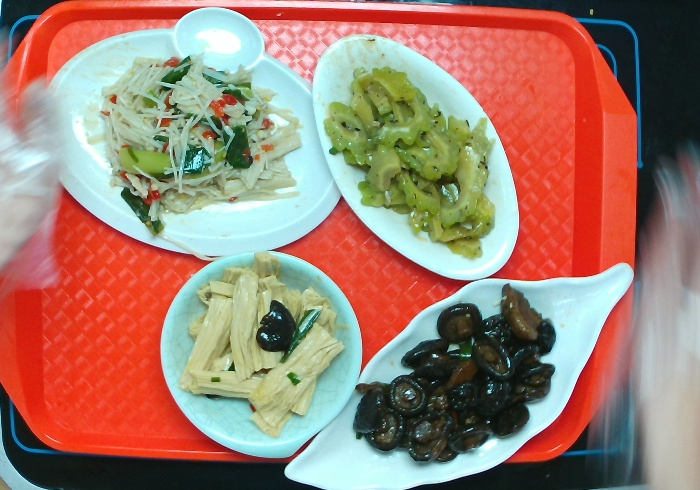RJxy-Bai_Se_Tuo_Yuan: (314, 27, 527, 279)
RJxy-Shu_Ye_Pan: (278, 243, 632, 490)
RJxy-Xiao_Jiao_Yuan_Wan: (160, 255, 361, 459)
RJxy-Zhan_Liao_Pan: (44, 6, 339, 249)
